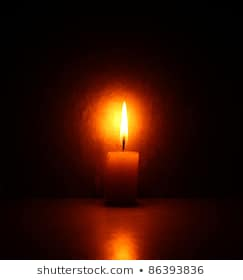Fire: (116, 101, 134, 145)
